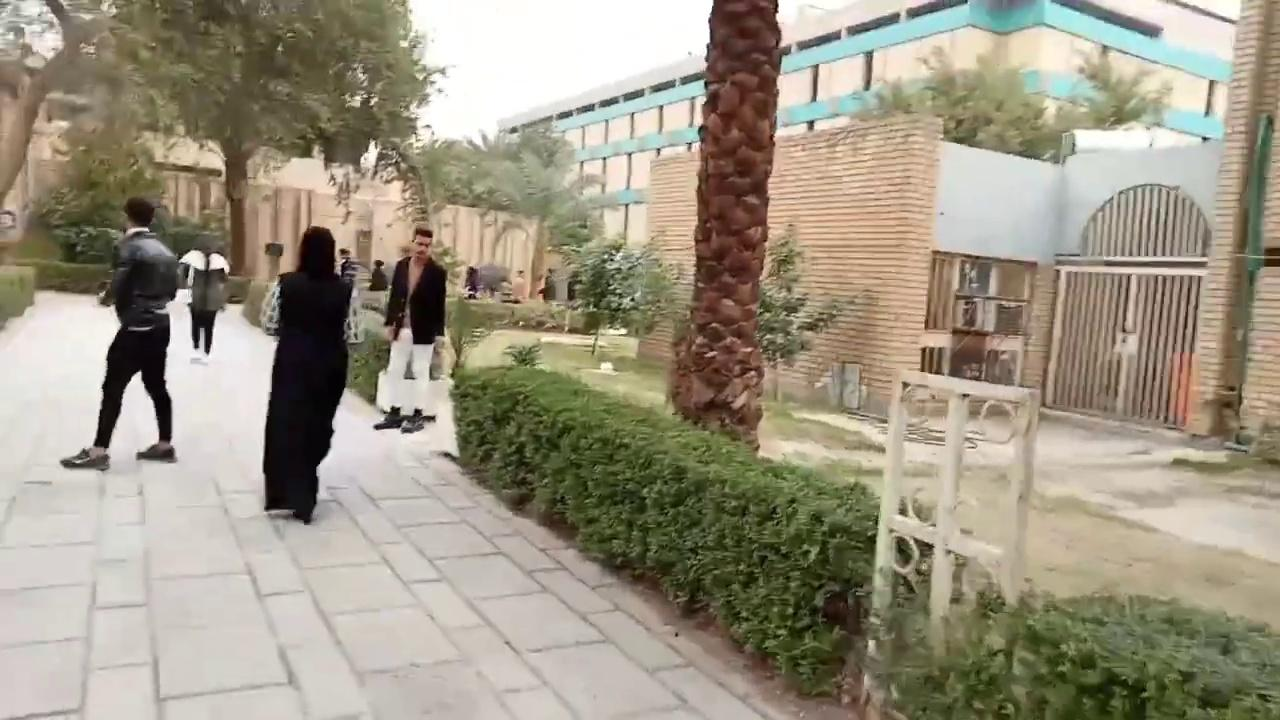person: (59, 196, 179, 471), (261, 224, 353, 525), (373, 227, 446, 433), (177, 232, 230, 359), (338, 247, 359, 286), (368, 259, 388, 291), (463, 265, 479, 297), (511, 269, 525, 301)
tree: (445, 319, 1276, 717), (97, 0, 449, 279), (665, 0, 784, 454), (0, 0, 163, 260), (664, 220, 846, 446), (843, 41, 1174, 161), (413, 119, 617, 301), (371, 127, 498, 286), (754, 221, 848, 402), (559, 231, 685, 358)
